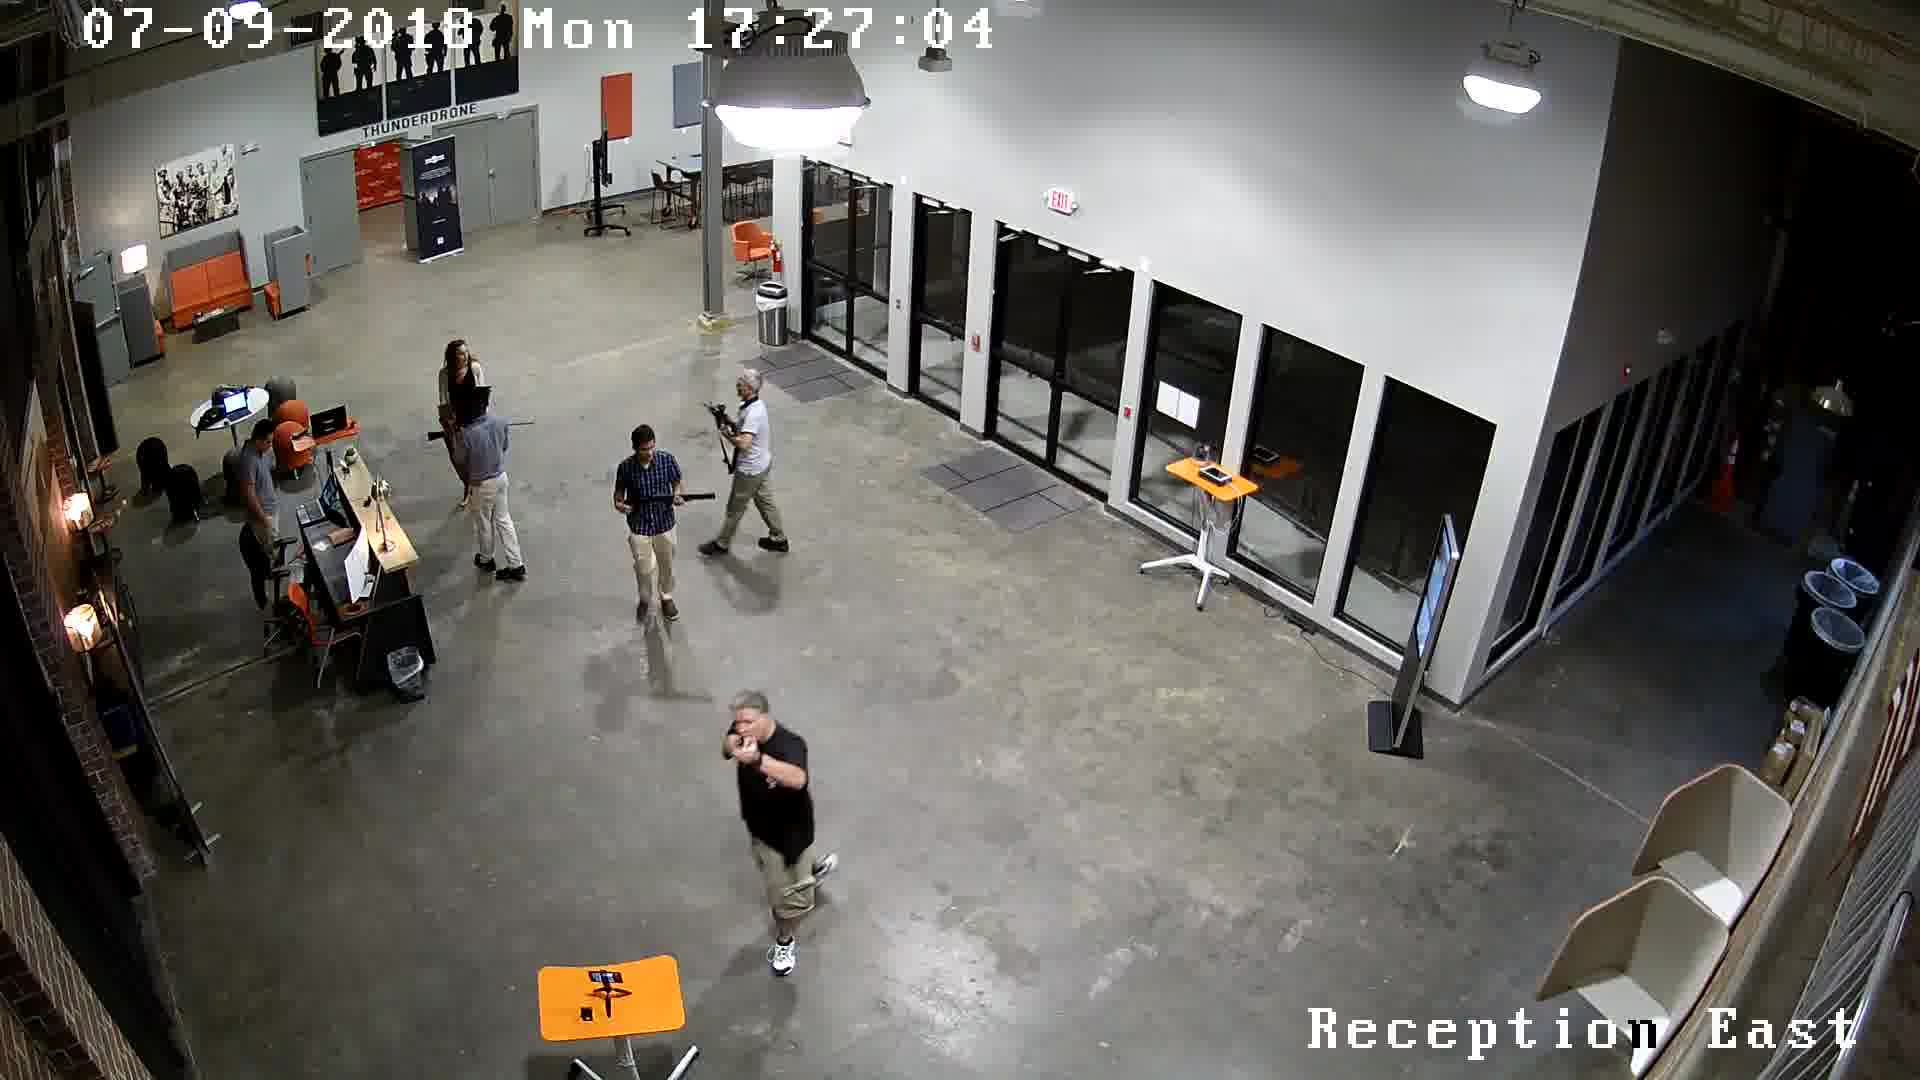pistol: (719, 731, 758, 762)
